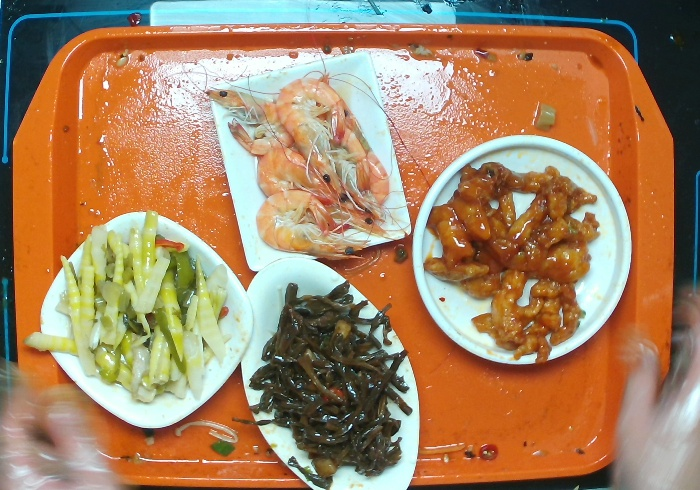HZYJPL-Si_Fang_Die: (208, 50, 414, 270)
HZYJPL-Si_Fang_Yuan_Die: (39, 209, 255, 431)
HZYJPL-Xiao_Yu_Die: (241, 255, 425, 490)
HZYJPL-Xiao_Yuan_Die: (411, 132, 636, 367)
